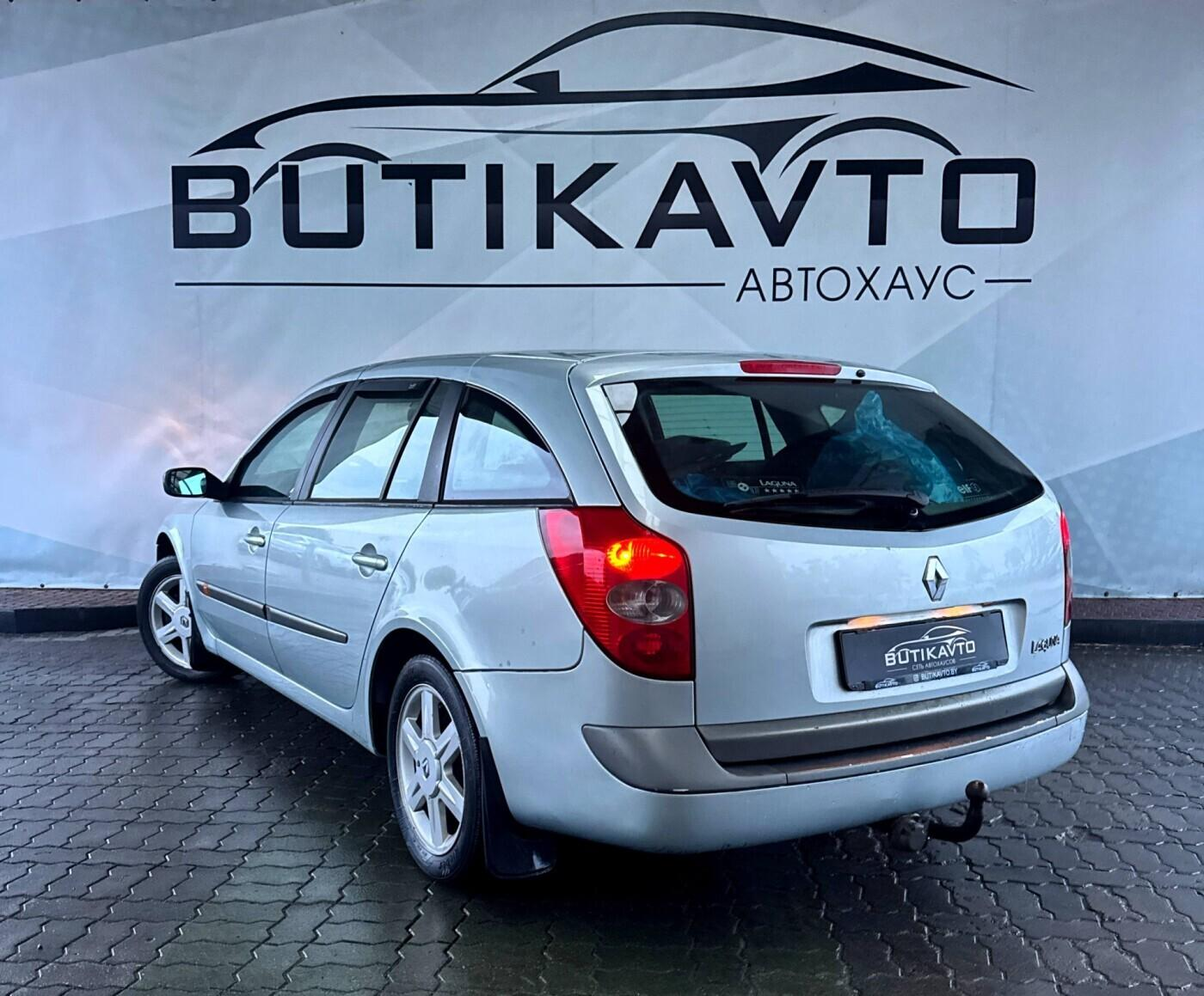Laguna_2001-2005: (142, 351, 1088, 878)
